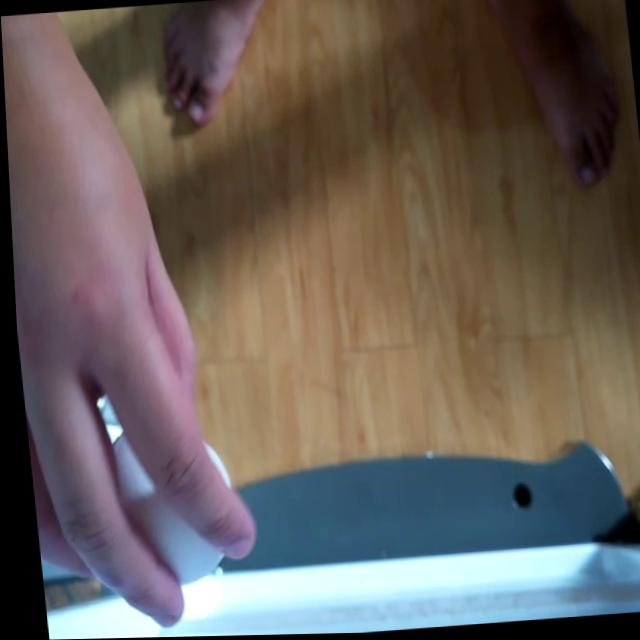egg: (104, 423, 231, 578)
